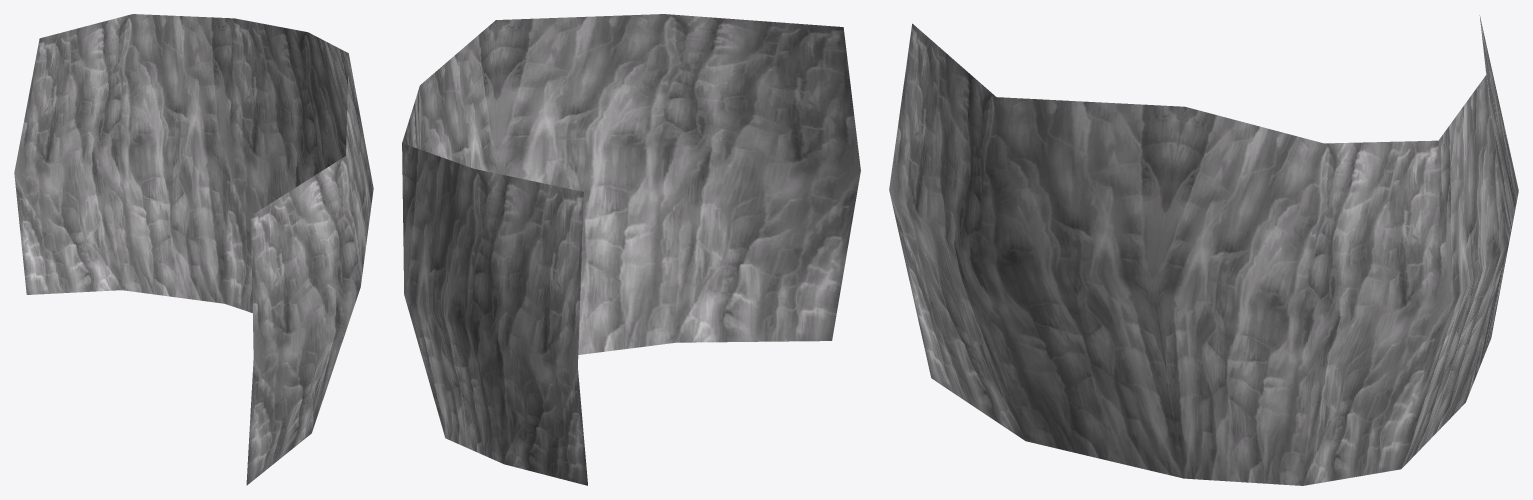
The model's file is SWORDLIGHT20_PS-AREA03_60.fbx.
The picture shows the model from 3 angles, left to right: view 1: azimuth 30°, elevation 25°; view 2: azimuth 150°, elevation 25°; view 3: azimuth 270°, elevation 25°; orthographic projection. The views are drawn at different scales.
Visible parts, largest first — view 1: SWORDLIGHT20_PS-AREA03_60; view 2: SWORDLIGHT20_PS-AREA03_60; view 3: SWORDLIGHT20_PS-AREA03_60.
Part boxes in pixels (box(x1,y1,x2,y2)): SWORDLIGHT20_PS-AREA03_60: box(14, 14, 373, 485); SWORDLIGHT20_PS-AREA03_60: box(402, 14, 860, 485); SWORDLIGHT20_PS-AREA03_60: box(889, 15, 1518, 485).
Size of the model in its own units: 89596 by 116547 by 167452.
Materials: 1 (1 with a texture image).
